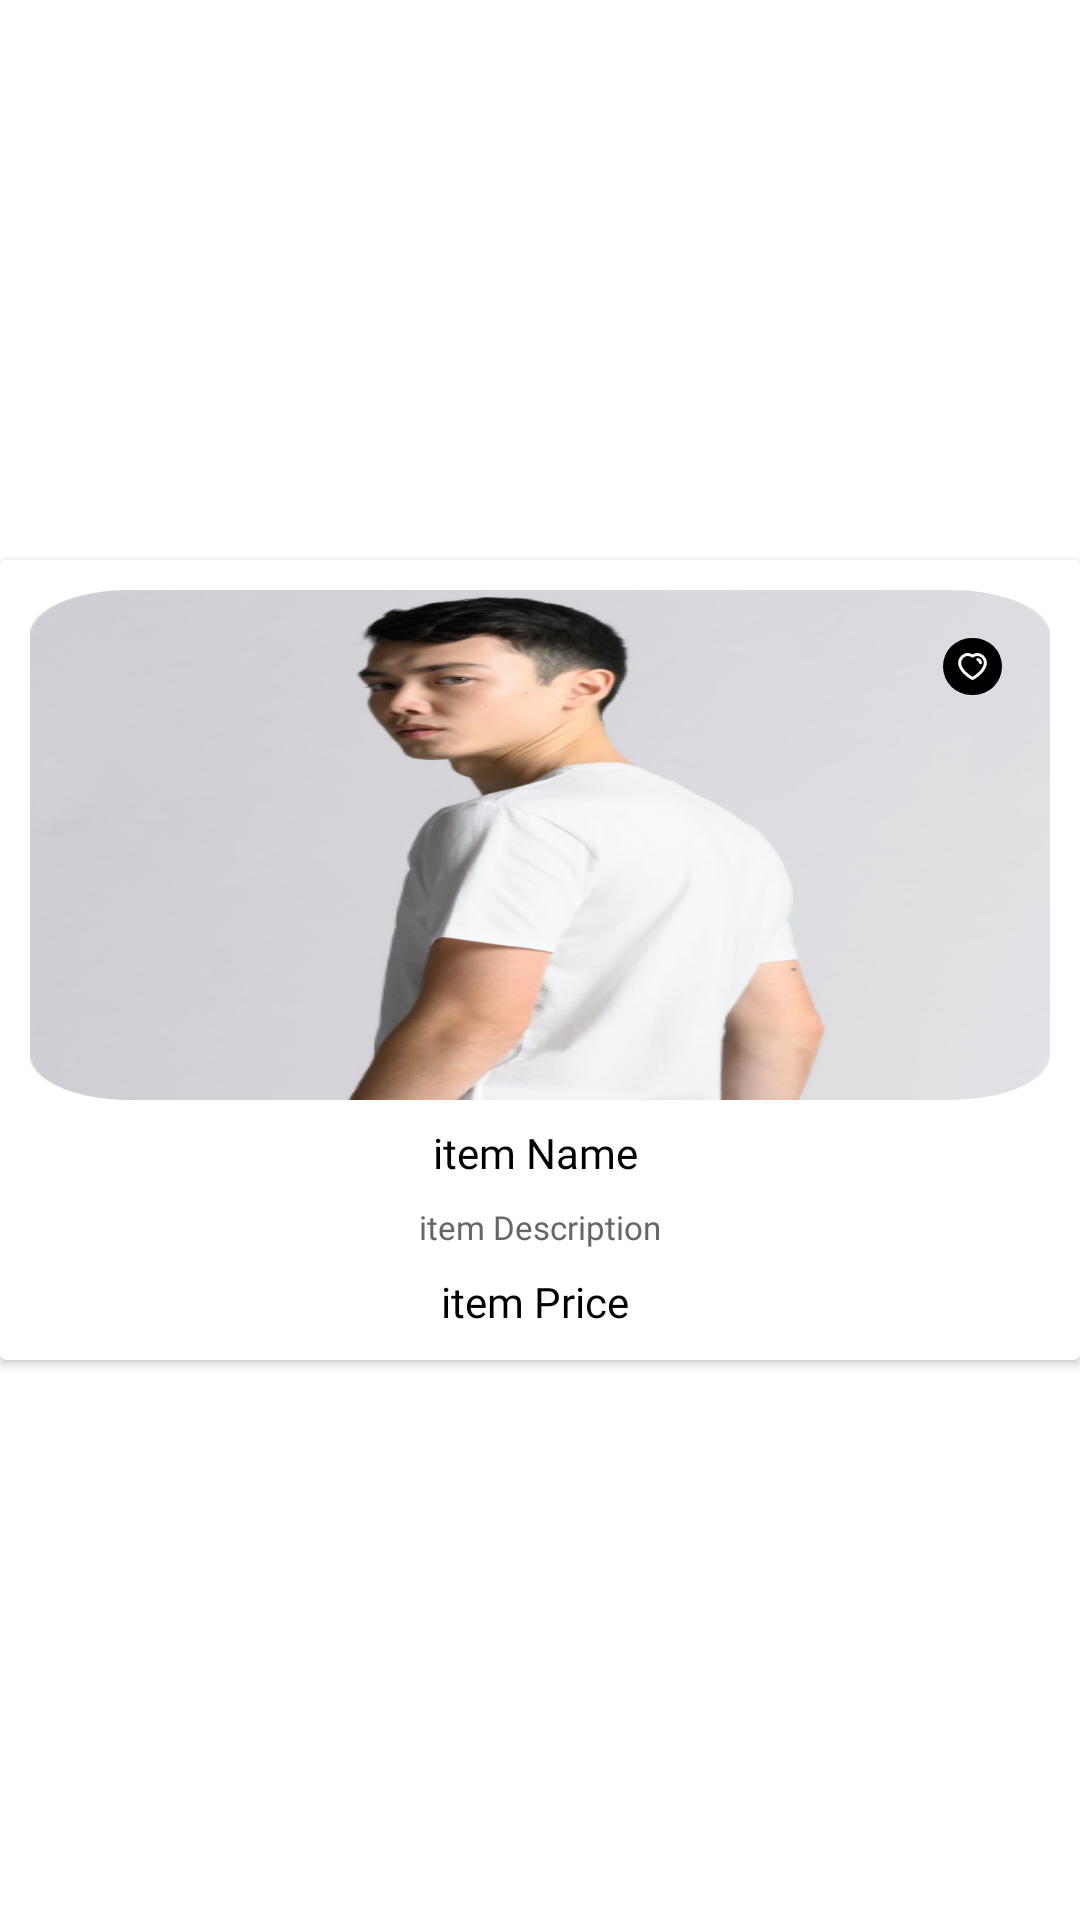

Screen size 1080w x 1920h. Icon name, then its center in pixels as (x=x, y=y):
Put in favourites button: (x=972, y=666)
